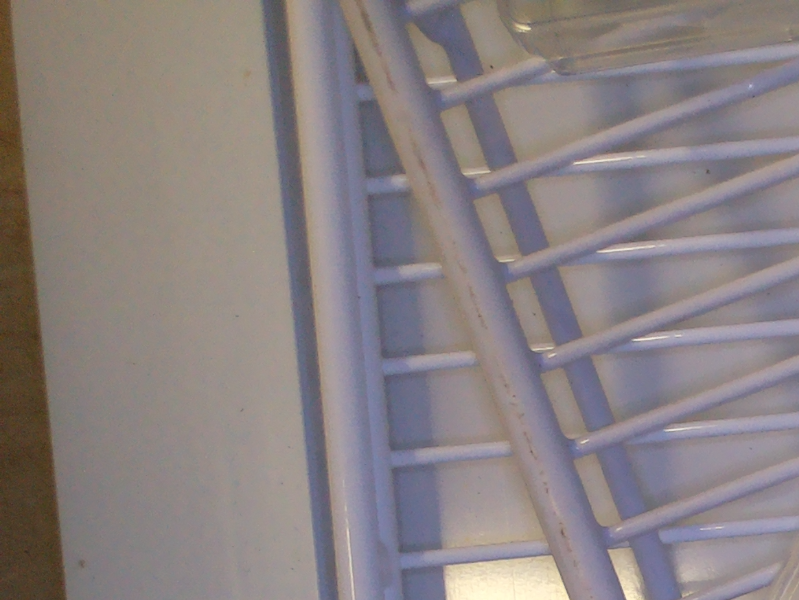plate: (495, 1, 799, 77)
